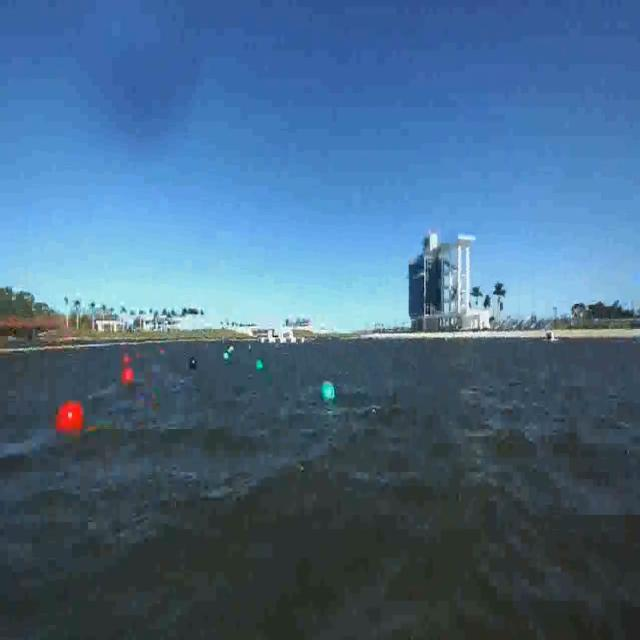black-buoy: (189, 353, 199, 369)
green-buoy: (323, 380, 338, 399), (254, 355, 264, 370)
red-buoy: (58, 400, 87, 433), (120, 368, 134, 381)
